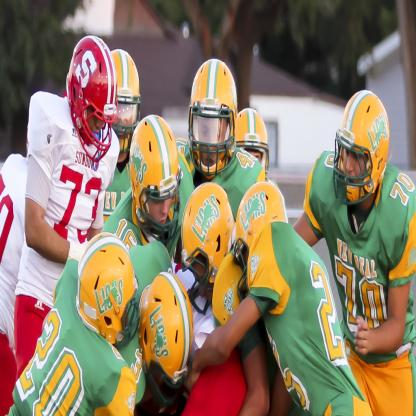Helmet: (138, 270, 195, 411), (76, 230, 140, 348), (180, 180, 235, 317), (229, 183, 289, 303), (333, 86, 390, 212), (66, 29, 117, 169), (128, 114, 184, 240), (186, 54, 237, 180), (110, 50, 141, 168), (212, 250, 244, 334), (237, 106, 270, 179)
